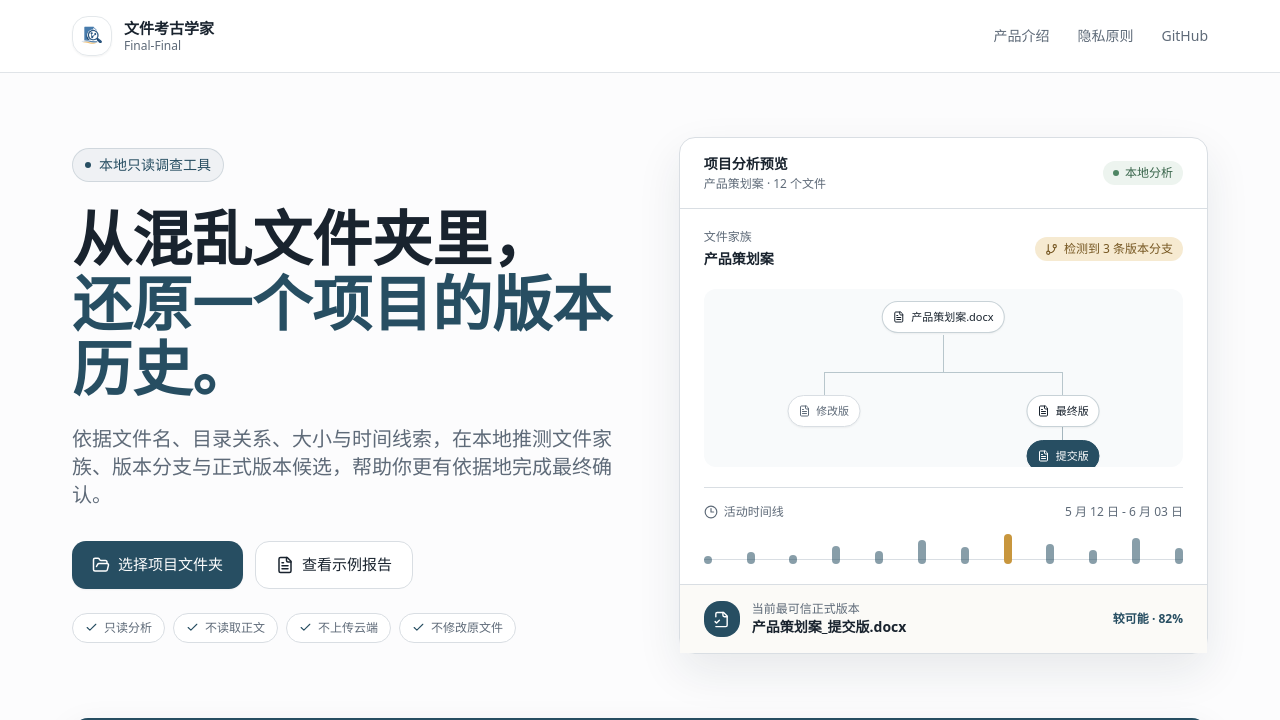
application shell › opens the read-only scan workflow from the primary CTA
Click the link "选择项目文件夹": [158, 565] box [72,541,243,589]
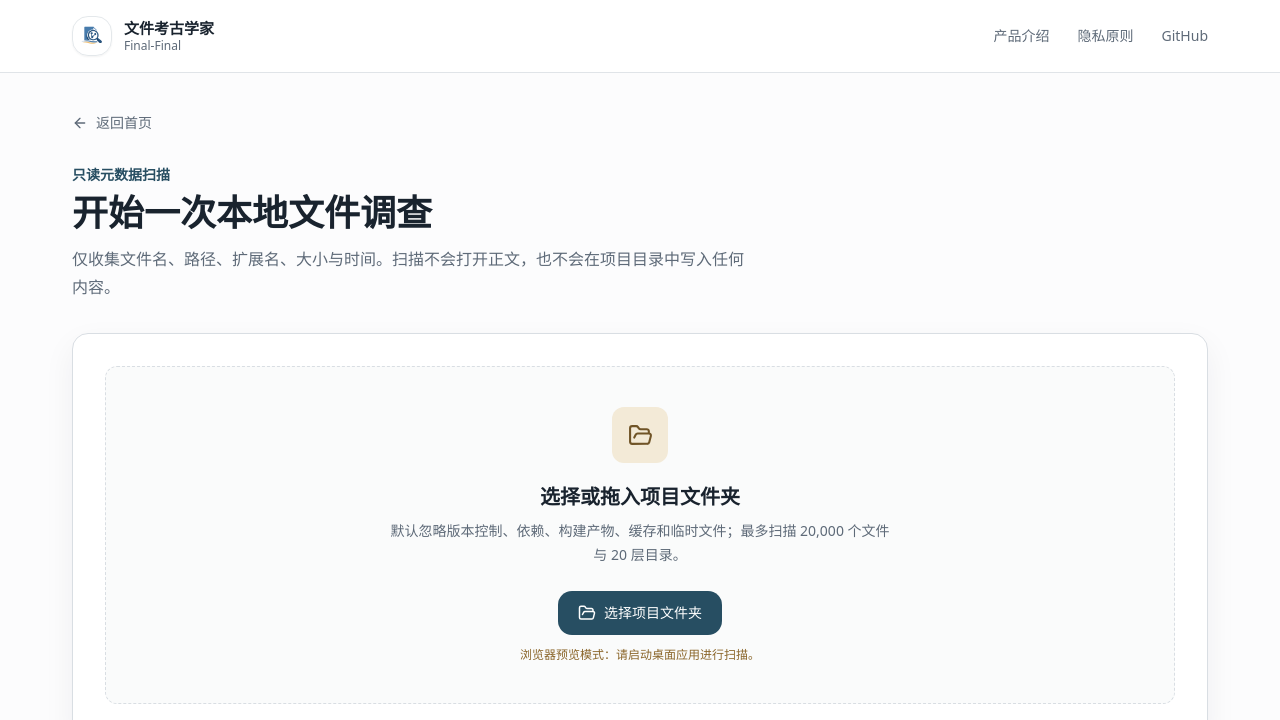
Result: the heading "开始一次本地文件调查" is shown at [72,188,432,237]
Result: the text "浏览器预览模式：请启动桌面应用进行扫描。" is shown at [520,646,760,663]
